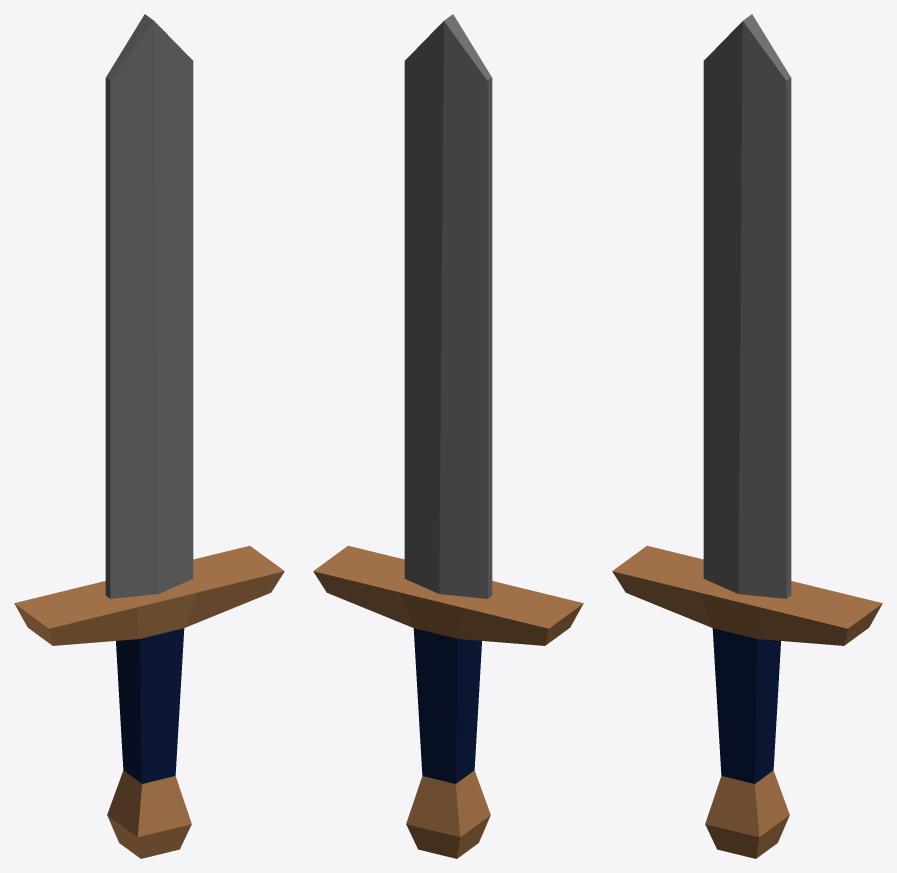
The model's file is 001_Broad_Sword.fbx.
The picture shows the model from 3 angles, left to right: view 1: azimuth 30°, elevation 25°; view 2: azimuth 150°, elevation 25°; view 3: azimuth 330°, elevation 25°; orthographic projection.
Visible parts, largest first — view 1: Broad Sword; view 2: Broad Sword; view 3: Broad Sword.
Part boxes in pixels (x1,y1,x2,y2): Broad Sword: (14,14,284,858); Broad Sword: (313,14,583,858); Broad Sword: (612,14,882,858).
Bounding box in the file's own units: 19.5 × 65.5 × 5.
